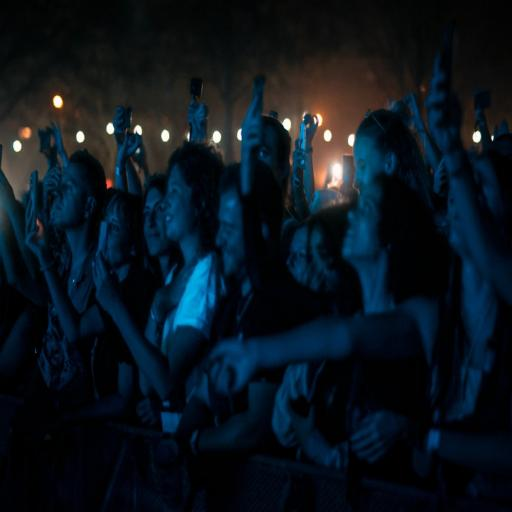face: (343, 183, 383, 266), (216, 189, 246, 280), (51, 163, 90, 230), (165, 166, 195, 243), (104, 206, 134, 268), (144, 188, 170, 257), (354, 136, 386, 190), (286, 226, 308, 285), (309, 227, 329, 276)
